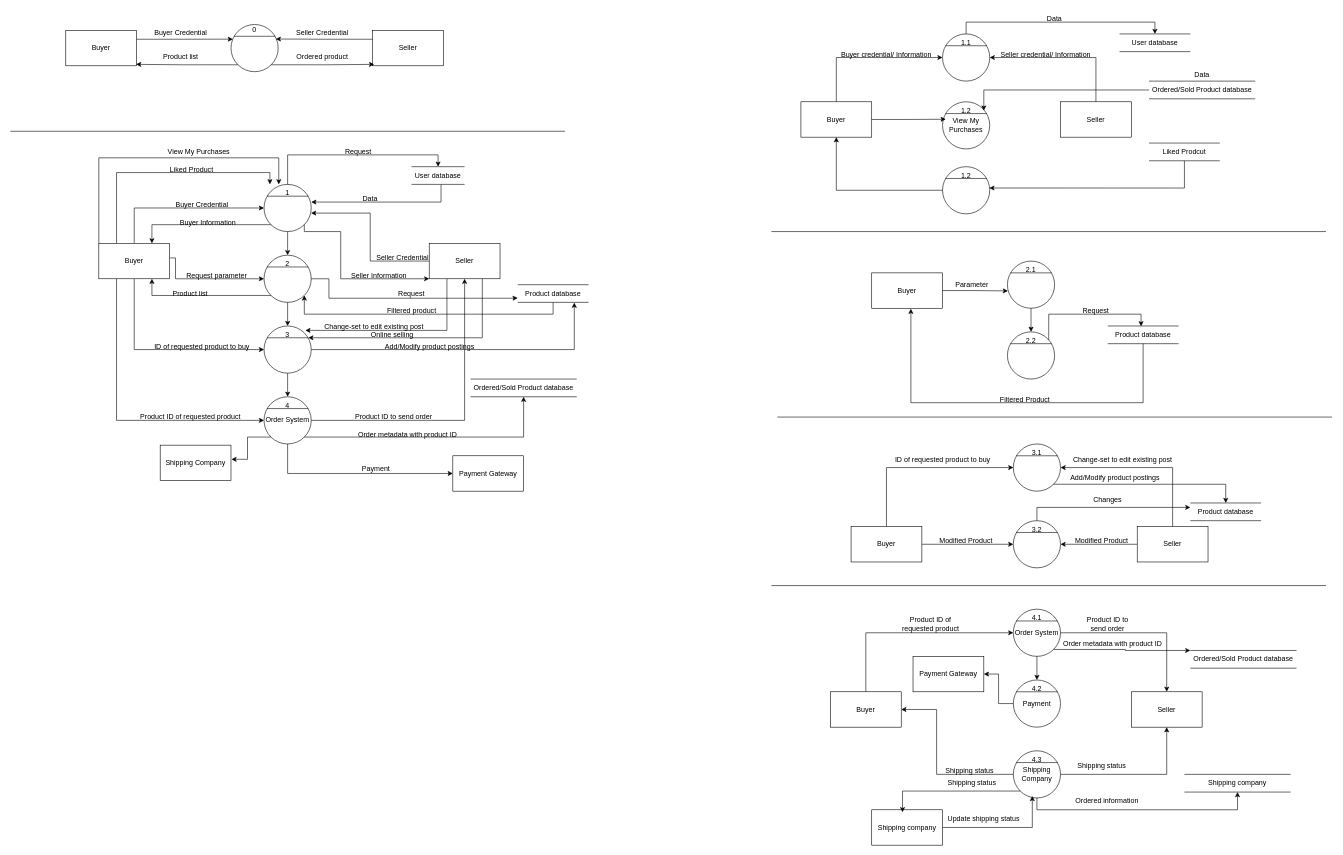
Some shapes in this 1343 by 855 pixel diagram are drawn without their labels. The shapes that lost their labels are listed below. From the top down, each one's box as (x1, y1, x2, y2) in pixels, then its label:
(230, 24, 278, 72): G2U
(942, 33, 990, 81): Create/Update account info.
(263, 184, 311, 232): User Profile
(942, 166, 990, 214): View Liked Product
(263, 255, 311, 302): Browse product
(1007, 260, 1055, 308): Display product list
(263, 325, 311, 373): Manage post
(1007, 331, 1055, 379): Filter product
(1013, 443, 1061, 491): Post products
(1013, 520, 1061, 568): Update/Delete Product
